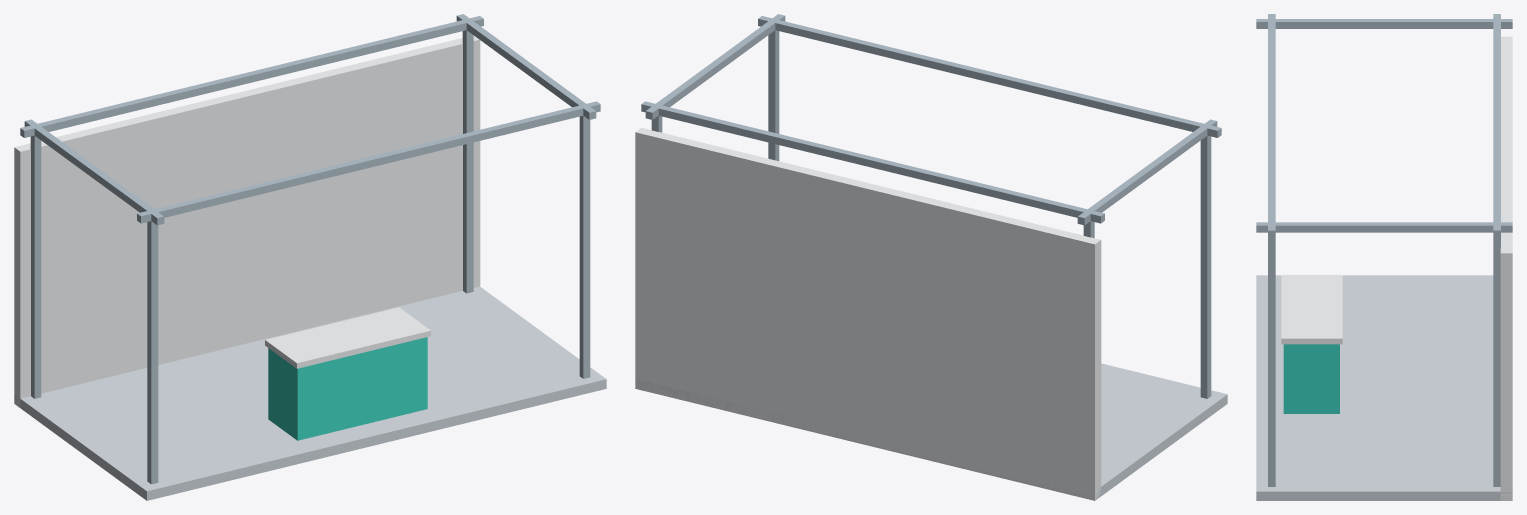
The picture shows the model from 3 angles, left to right: view 1: azimuth 30°, elevation 25°; view 2: azimuth 150°, elevation 25°; view 3: azimuth 270°, elevation 25°; orthographic projection. The views are drawn at different scales.
Parts seen in each view (by area): view 1: Exhibition Booth Concept; view 2: Exhibition Booth Concept; view 3: Exhibition Booth Concept.
Part boxes in pixels (box(x1,y1,x2,y2)): Exhibition Booth Concept: box(14, 14, 606, 500); Exhibition Booth Concept: box(635, 14, 1227, 500); Exhibition Booth Concept: box(1256, 14, 1512, 500).
Size of the model in its own units: 6 by 3.49 by 3.
